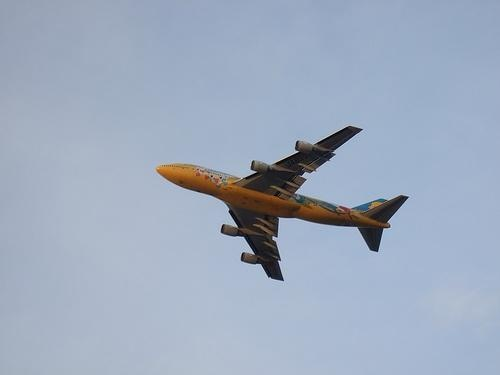aeroplane: (157, 127, 412, 279)
